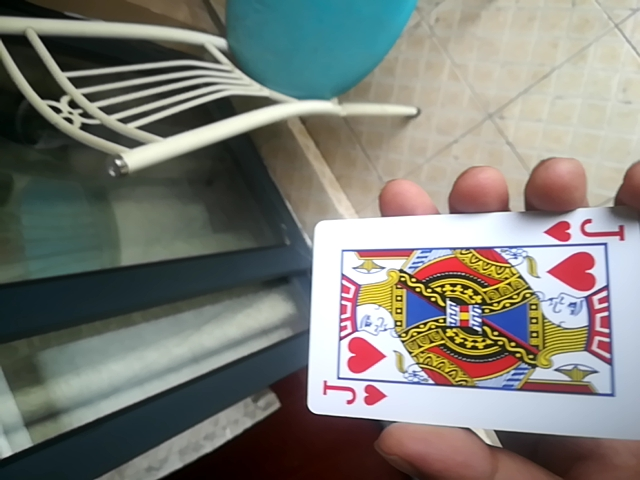hx j: (300, 204, 637, 442)
